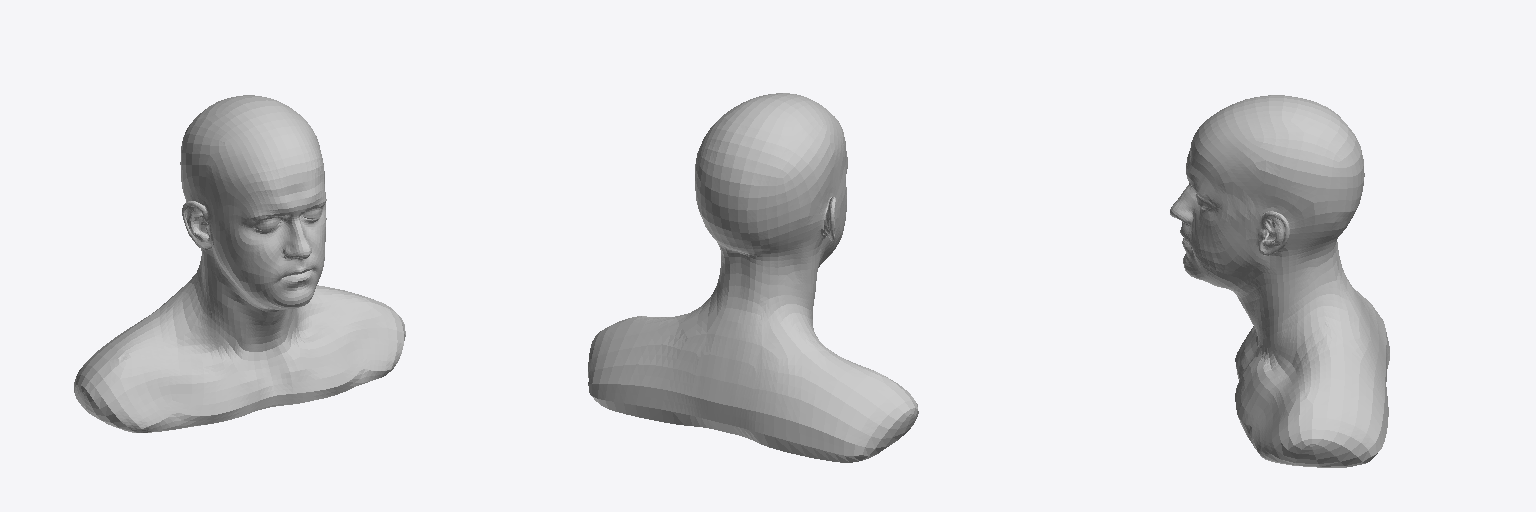
The model's file is head_subdivided_normals.obj.
3 views of the same model, side by side, from view 1: azimuth 30°, elevation 25°; view 2: azimuth 150°, elevation 25°; view 3: azimuth 270°, elevation 25° (orthographic).
Parts seen in each view (by area): view 1: Group2, Group19, Group14, Group4, Group5; view 2: Group2, Group4, Group19, Group5; view 3: Group2, Group19, Group14, Group4, Group5.
Boxes of the visible parts, x1,y1,x2,y2 form: Group2: [76, 95, 403, 432]; Group19: [205, 144, 326, 277]; Group14: [214, 236, 325, 309]; Group4: [74, 315, 405, 432]; Group5: [182, 194, 213, 249]; Group2: [588, 93, 914, 455]; Group4: [588, 331, 918, 462]; Group19: [829, 112, 847, 218]; Group5: [817, 187, 835, 240]; Group2: [1210, 95, 1389, 459]; Group19: [1170, 116, 1266, 244]; Group14: [1182, 226, 1264, 288]; Group4: [1265, 429, 1377, 467]; Group5: [1254, 203, 1296, 255].
Size of the model in its own units: 0.4533 by 0.4211 by 0.2746.